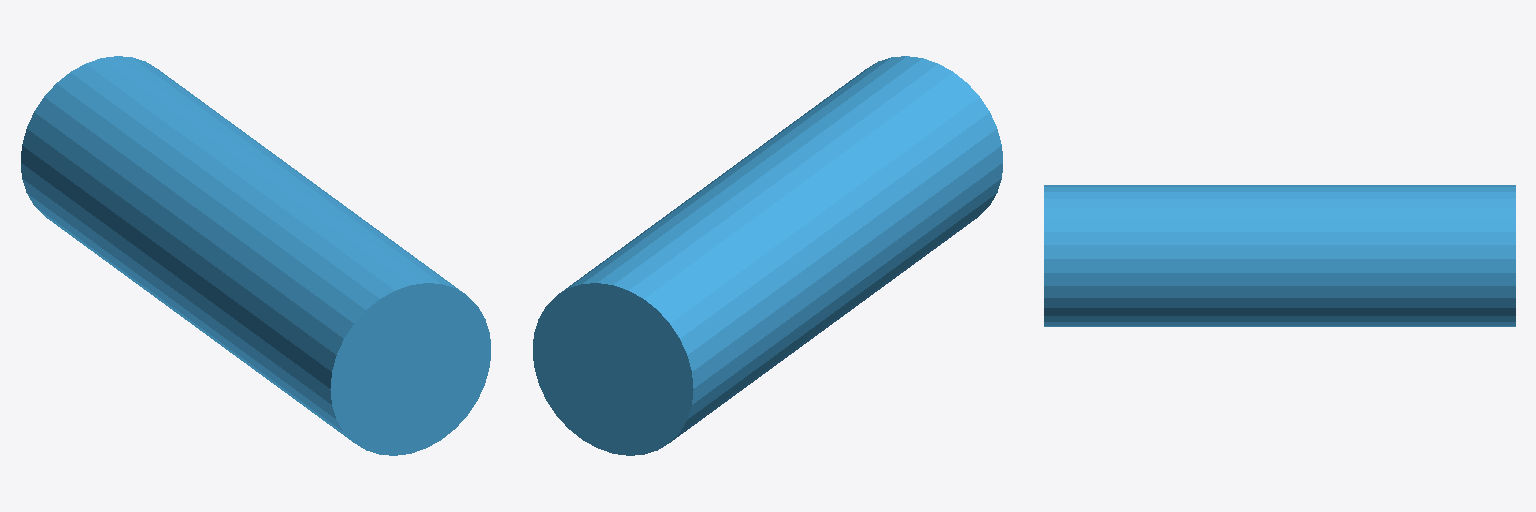
robot.urdf — tank:
<?xml version="1.0"?>
<robot name="tank" xmlns:xacro="http://wiki.ros.org/xacro">

<link name="work"/>

<link name="tank">
  <visual>
    <origin xyz="0 0 0" rpy="0 0 0"/>
    <geometry>
      <cylinder length="2.0" radius="0.3"/>
    </geometry>
    <material name="green"/>
  </visual>
  <collision>
    <origin xyz="0 0 0" rpy="0 0 0"/>
    <geometry>
      <cylinder length="2.0" radius="0.3"/>
    </geometry>
  </collision>
</link>

<joint name="work_to_tank" type="fixed">
  <parent link="work"/>
  <child link="tank"/>
  <origin xyz="0.5 1.0 0.15" rpy="-1.5707963267948966 0 0" />
</joint>

</robot>

--- Render facts (derived) ---
3 views of the same robot in one strip: view 1: azimuth 30°, elevation 25°; view 2: azimuth 150°, elevation 25°; view 3: azimuth 270°, elevation 25° (orthographic).
Robot: tank — 2 links, 1 joints (1 fixed); root link work; default pose: all joints at 0.
Links seen in each view (by area): view 1: tank; view 2: tank; view 3: tank.
Link boxes in pixels (x1,y1,x2,y2): tank: (21,56,490,455); tank: (533,56,1002,455); tank: (1044,185,1515,326).
Size in the robot's own frame: 0.6 by 2 by 0.6 metres.
Geometry: primitives only (box / cylinder / sphere), no mesh files.